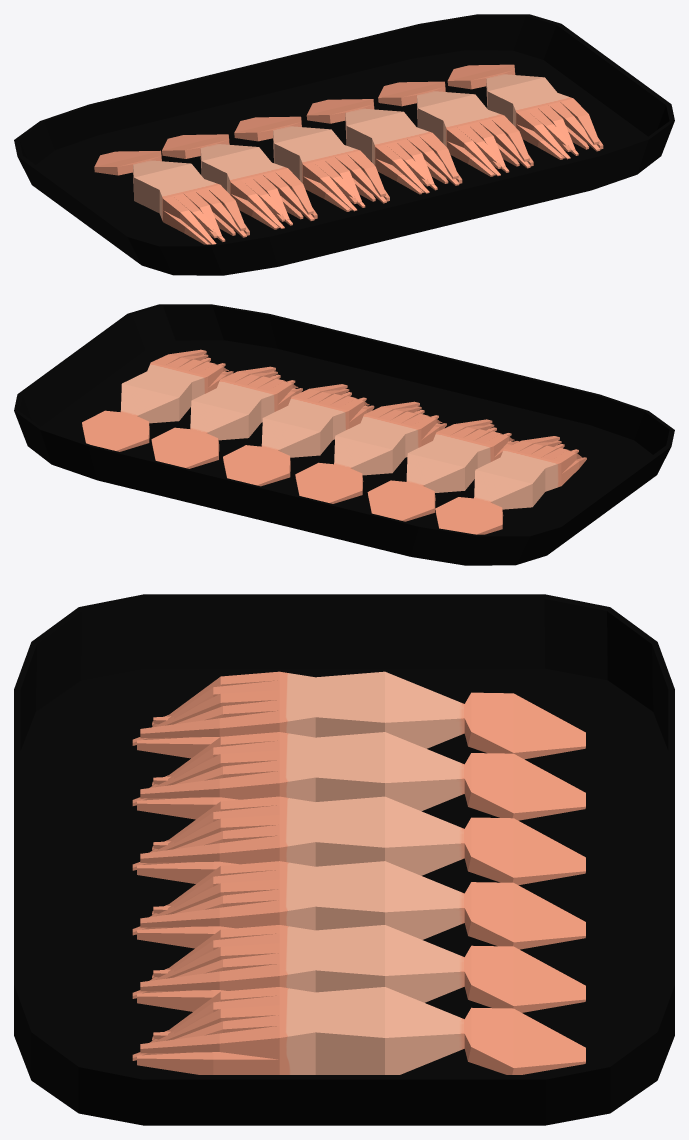
The model's file is Collectible Item.fbx_Squid.fbx.
The picture shows the model from 3 angles, top to bottom: view 1: azimuth 30°, elevation 25°; view 2: azimuth 150°, elevation 25°; view 3: azimuth 270°, elevation 25°; orthographic projection. The views are drawn at different scales.
Parts seen in each view (by area): view 1: Squid Tray; view 2: Squid Tray; view 3: Squid Tray.
Part boxes in pixels (<box>): Squid Tray: <box>14,14,674,275</box>; Squid Tray: <box>14,304,674,565</box>; Squid Tray: <box>14,594,674,1125</box>.
Bounding box in the file's own units: 2.9 × 0.1637 × 1.67.
2 materials, 2 textured.
